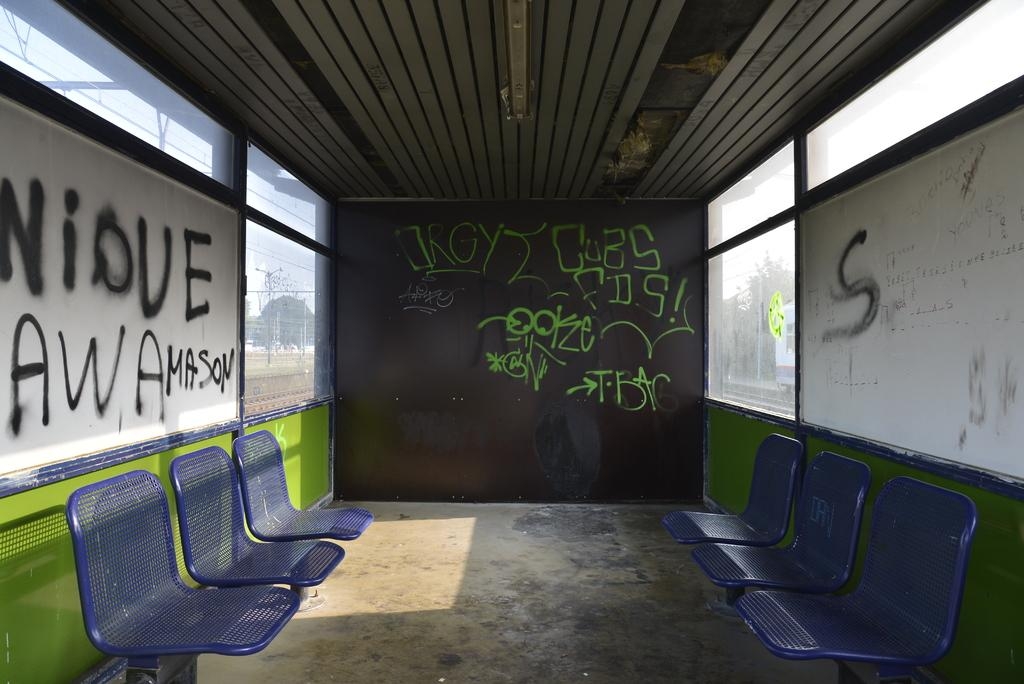Chair: (62, 448, 345, 683), (735, 476, 977, 672), (691, 451, 870, 603), (664, 434, 804, 550)
